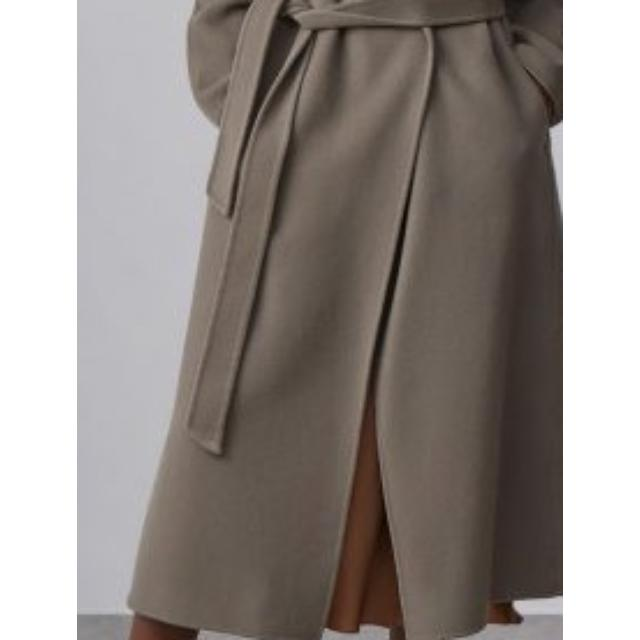silk: (116, 0, 564, 640)
